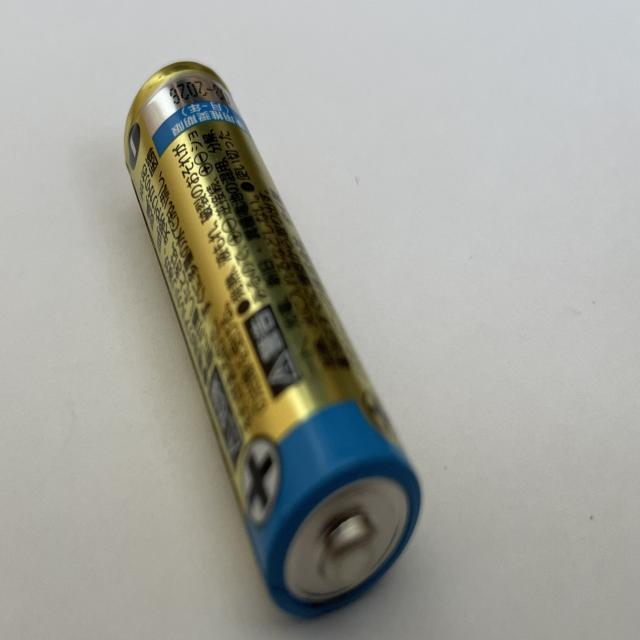AA: (122, 61, 424, 623)
